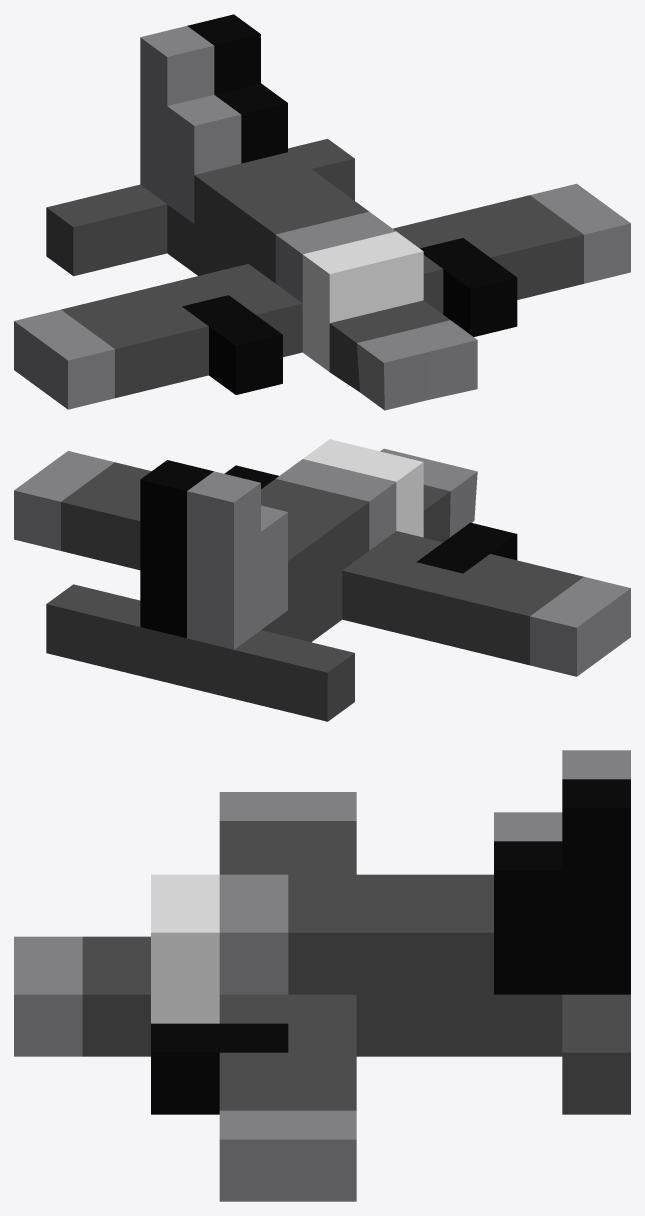
File: fighter.glb
3 views of the same model, one above another, from view 1: azimuth 30°, elevation 25°; view 2: azimuth 150°, elevation 25°; view 3: azimuth 270°, elevation 25° (orthographic). The views are drawn at different scales.
Visible parts, largest first — view 1: fighter; view 2: fighter; view 3: fighter.
Part boxes in pixels (x1,y1,x2,y2): fighter: (14,14,630,410); fighter: (14,439,630,721); fighter: (14,750,630,1201).
Bounding box in the file's own units: 0.5447 × 0.1816 × 0.4085.
Materials: 1 (1 with a texture image).
